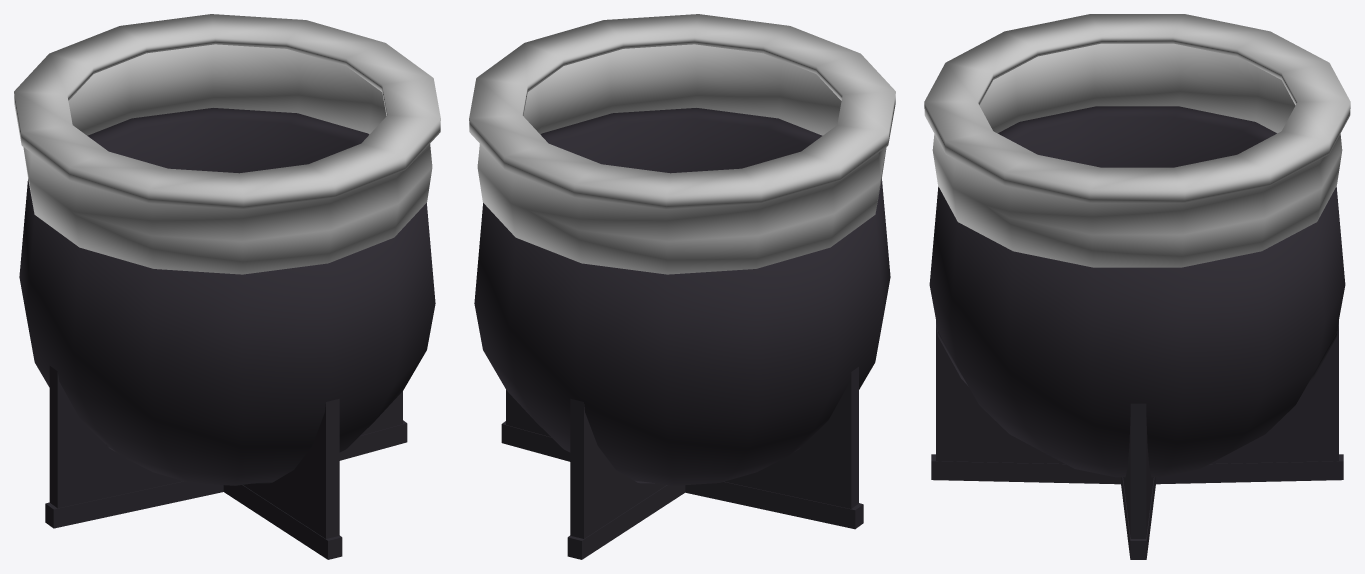
The model's file is mate.fbx.
3 renders of one model, left to right at view 1: azimuth 30°, elevation 25°; view 2: azimuth 150°, elevation 25°; view 3: azimuth 270°, elevation 25°, orthographic.
Visible parts, largest first — view 1: BameMate, PartedeArriba, Base; view 2: BameMate, PartedeArriba, Base; view 3: BameMate, PartedeArriba, Base.
Part boxes in pixels (<box>): BameMate: <box>19,108,435,485</box>; PartedeArriba: <box>14,14,440,274</box>; Base: <box>45,366,407,559</box>; BameMate: <box>474,108,890,485</box>; PartedeArriba: <box>469,14,895,274</box>; Base: <box>501,367,863,559</box>; BameMate: <box>929,106,1345,477</box>; PartedeArriba: <box>924,14,1350,267</box>; Base: <box>931,321,1343,559</box>.
Bounding box in the file's own units: 224 × 222 × 229.
